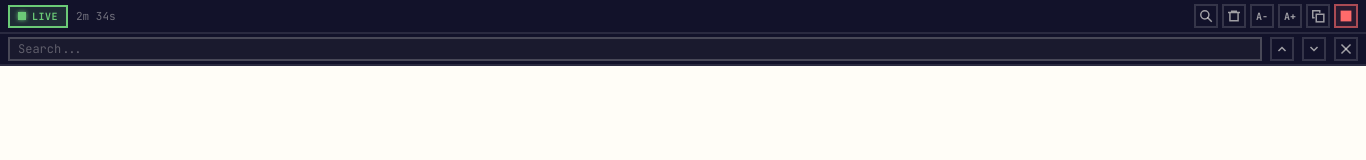
Test: TerminalToolbar › shows match count when searching with results
Type "test" into the field with test id "search-input" at (635, 49), box [8,37,1262,61]
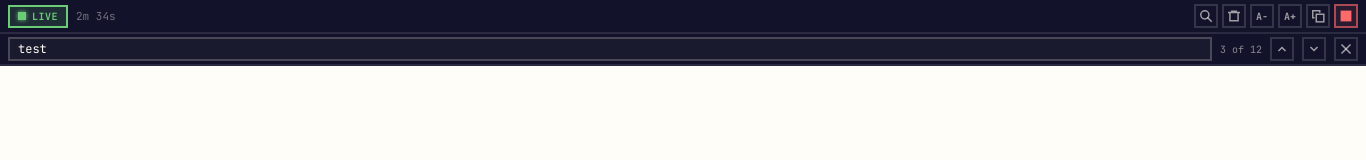
Expected: the text with test id "search-match-count" reads "3 of 12", [1220,42,1262,56]
